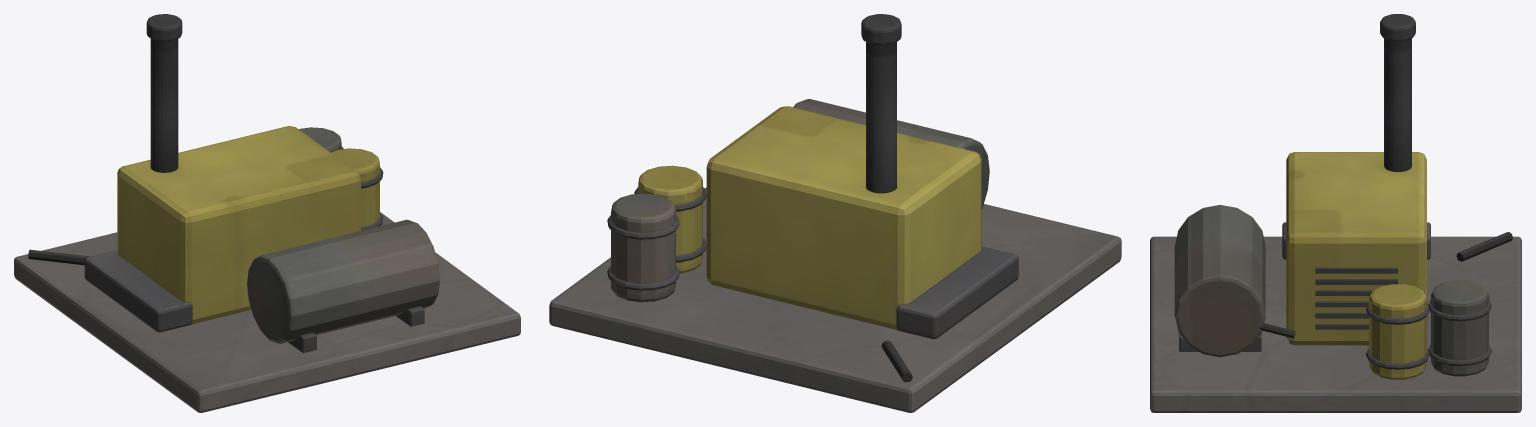
File: home-generator.glb
The picture shows the model from 3 angles, left to right: view 1: azimuth 30°, elevation 25°; view 2: azimuth 150°, elevation 25°; view 3: azimuth 270°, elevation 25°; orthographic projection. The views are drawn at different scales.
Visible parts, largest first — view 1: wh_generator; view 2: wh_generator; view 3: wh_generator.
Part boxes in pixels (x1,y1,x2,y2): wh_generator: (14, 14, 520, 412); wh_generator: (549, 14, 1121, 412); wh_generator: (1150, 14, 1521, 412).
Bounding box in the file's own units: 0.9 × 0.75 × 0.9.
1 material, 1 textured.
